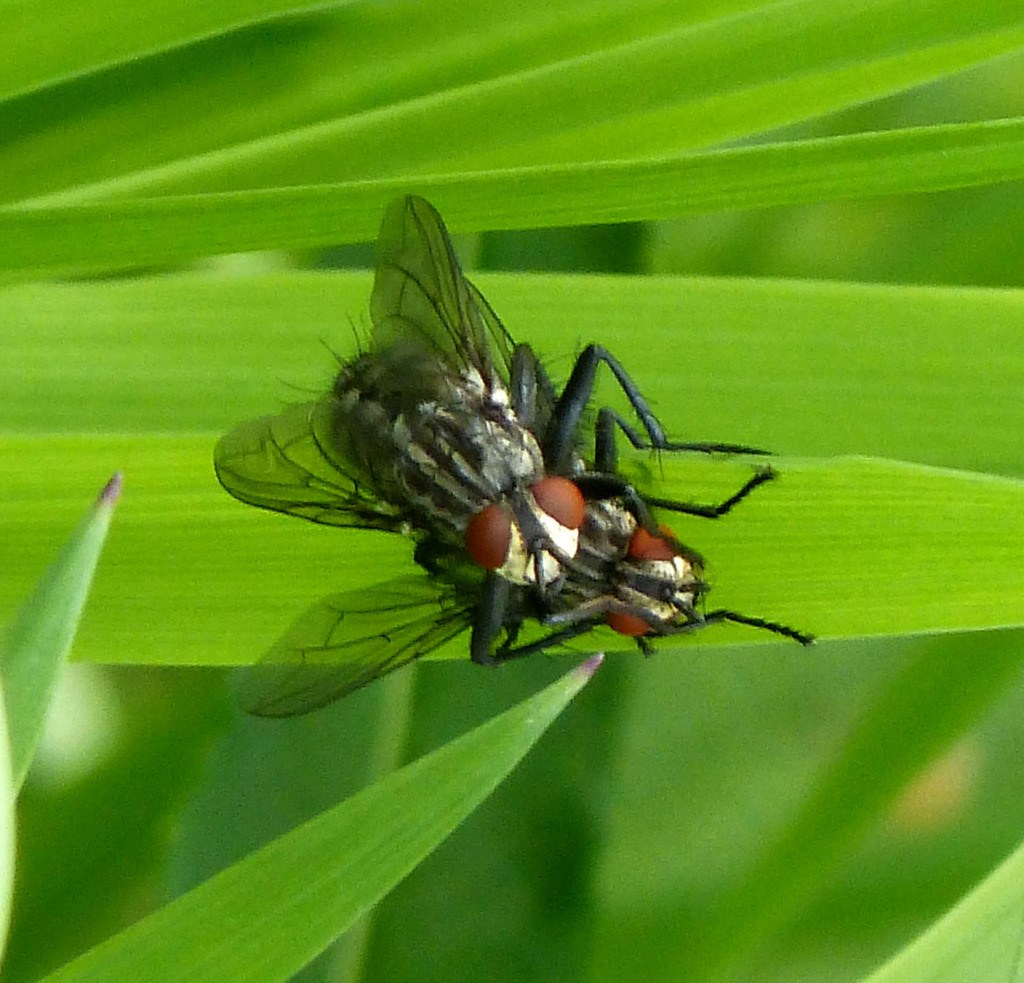insect: (216, 195, 817, 719)
